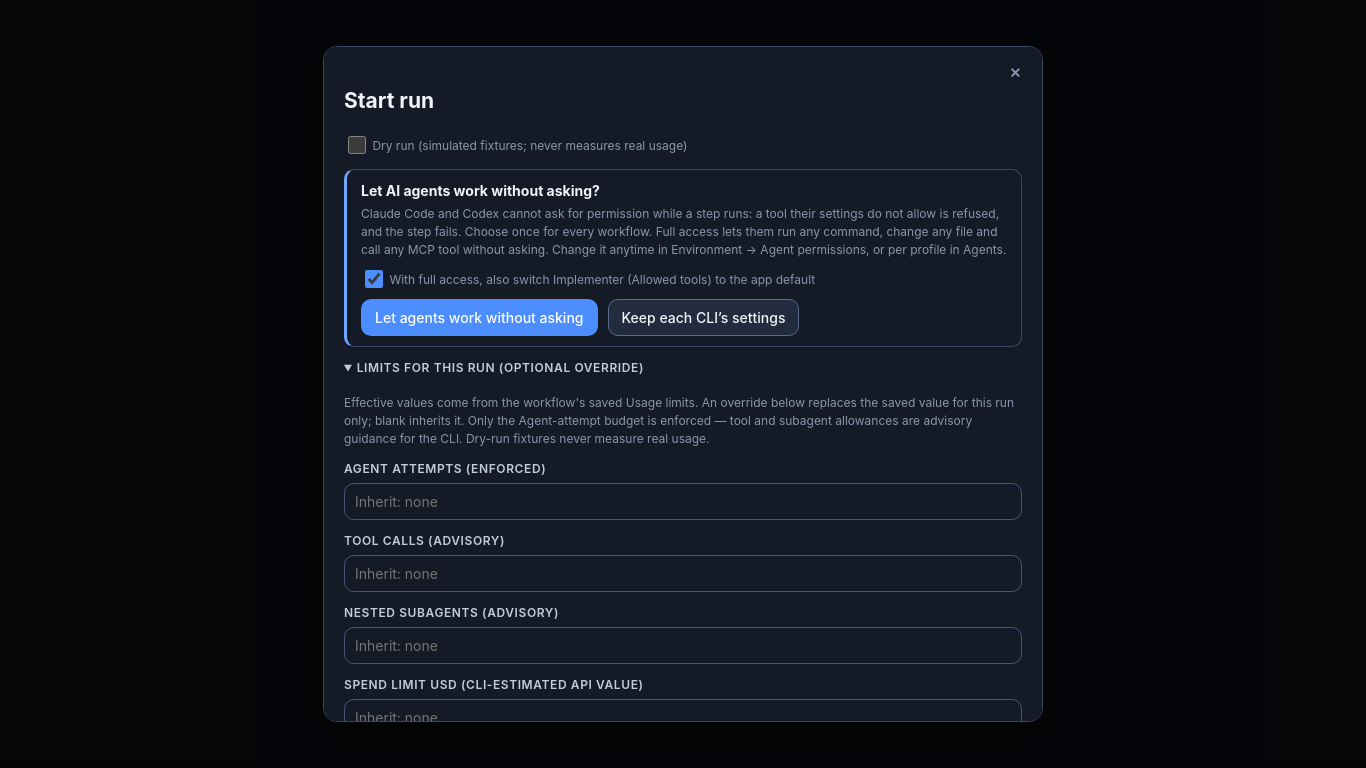
Scenario: asks once whether agents work without asking, then never again
Expected: the text "Let AI agents work without asking?" is shown, [361,182,600,199]
Expected: the checkbox labelled "also switch Implementer (Allowed tools) to the app default" is checked, [365,270,383,288]
Click the button "Let agents work without asking": click(479, 318) [361,299,598,336]
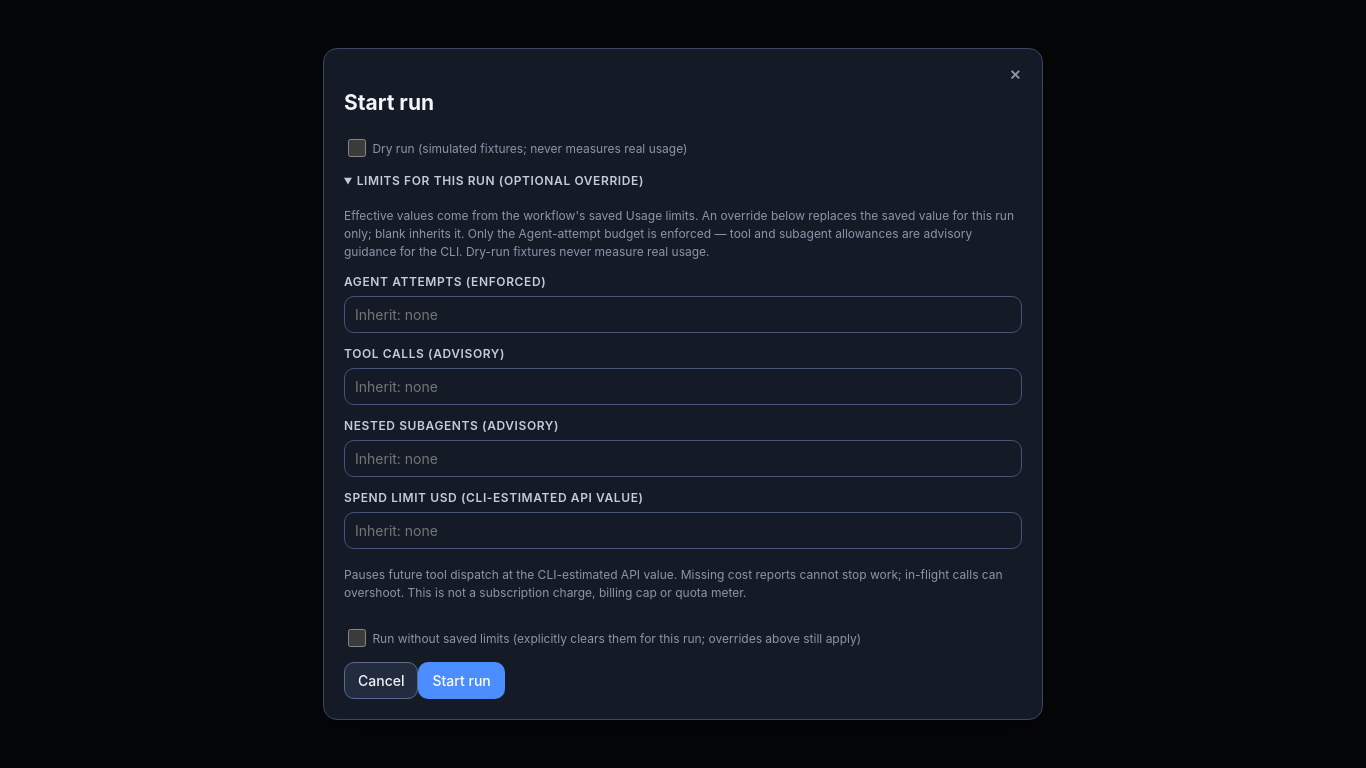
Now the text "Let AI agents work without asking?" is gone
